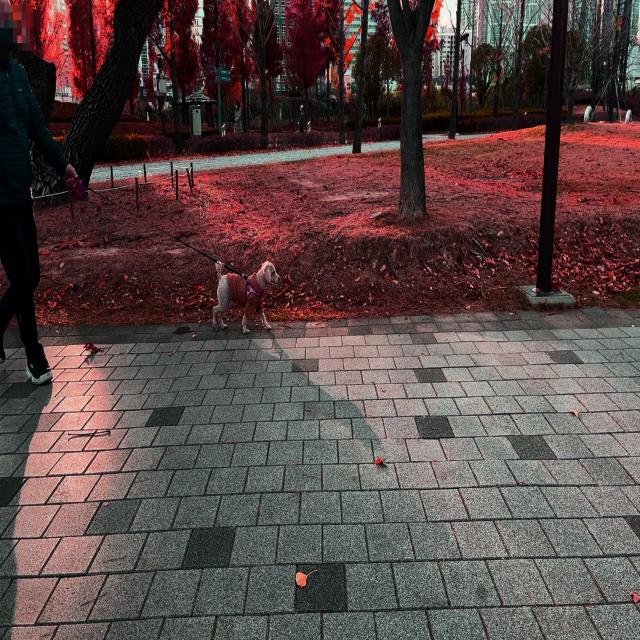Leashed_Dog: (26, 164, 281, 336)
